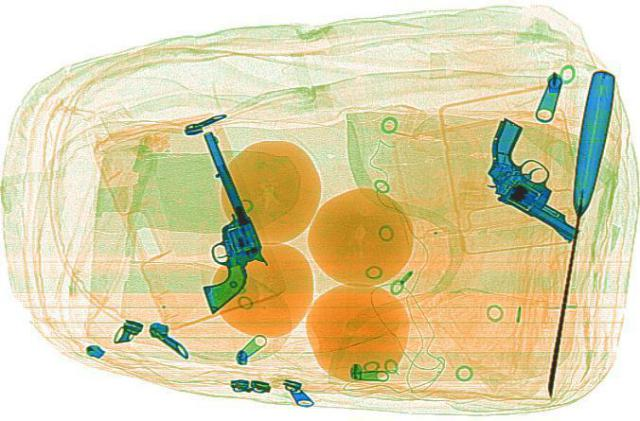Gun: (140, 129, 282, 312), (429, 115, 637, 238)
Knife: (534, 69, 618, 398)
